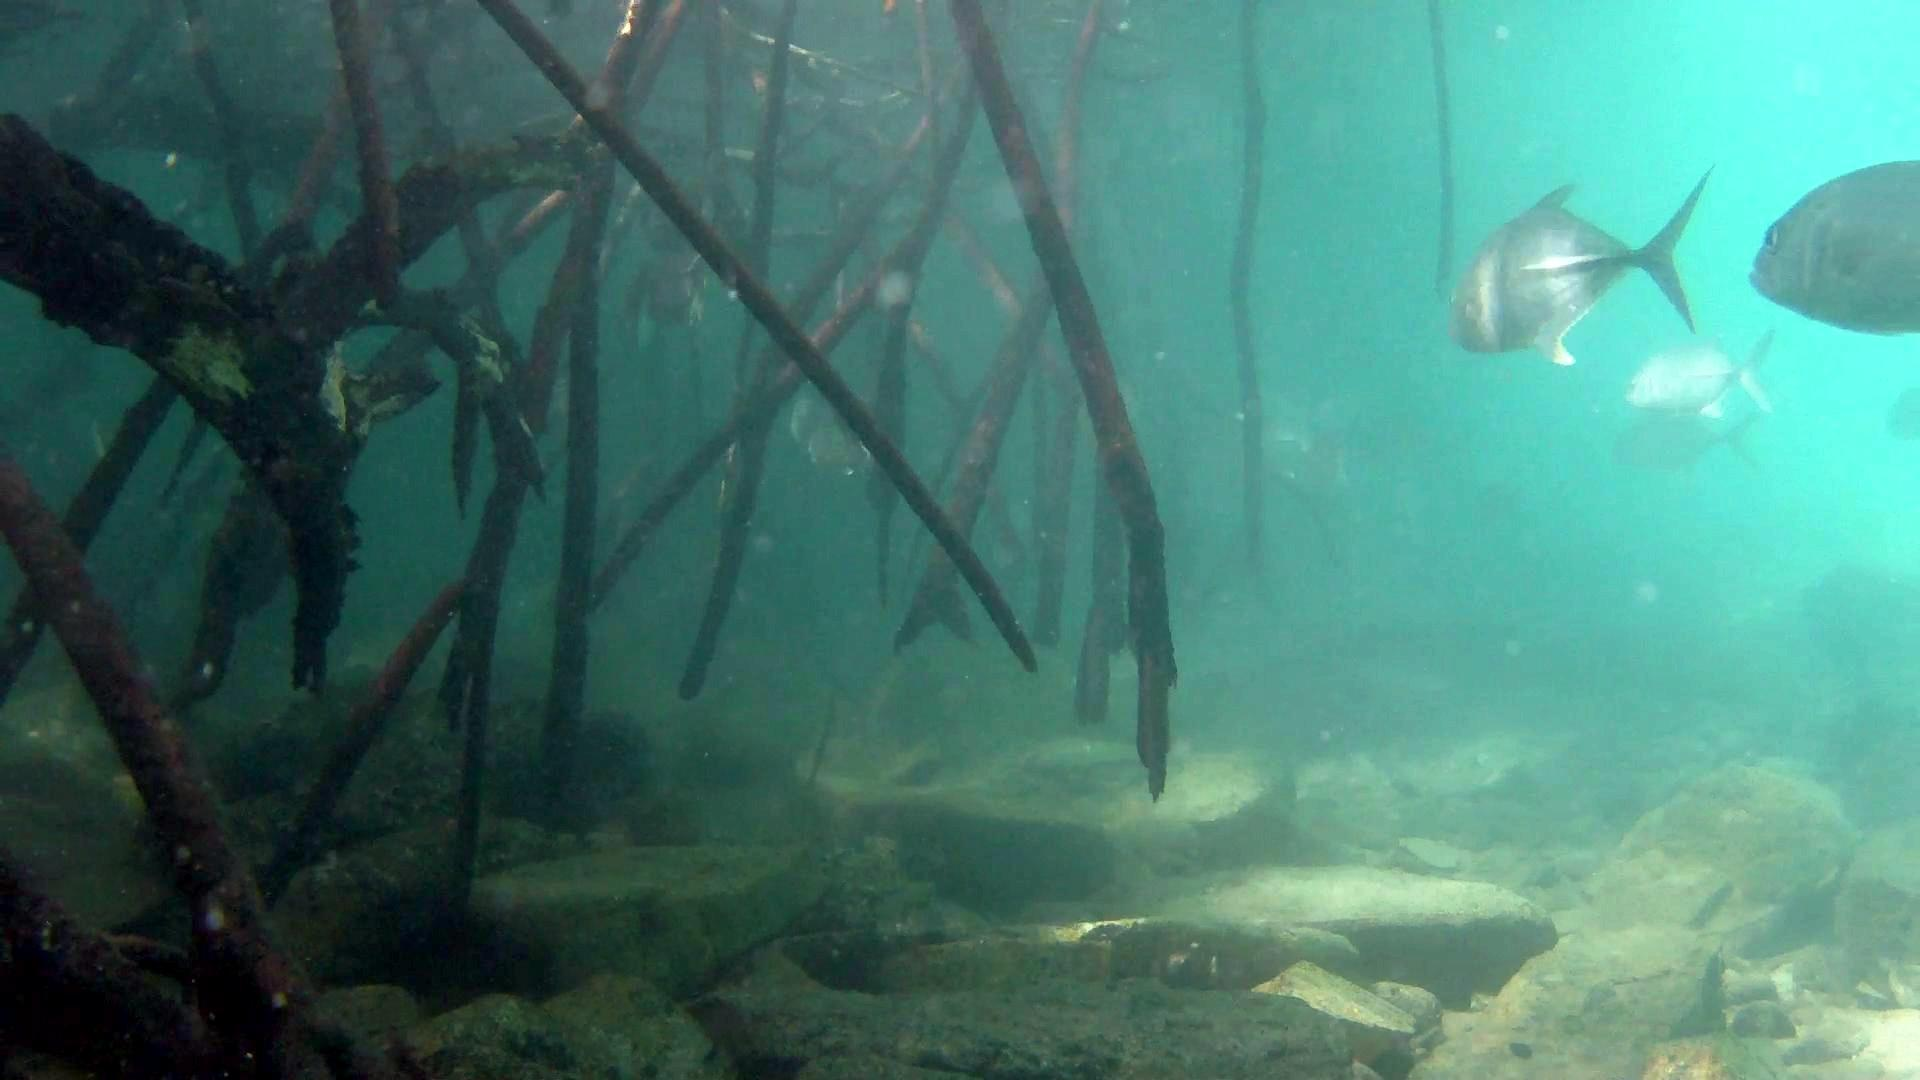caranx: (1441, 164, 1714, 369), (1743, 145, 1920, 353)
